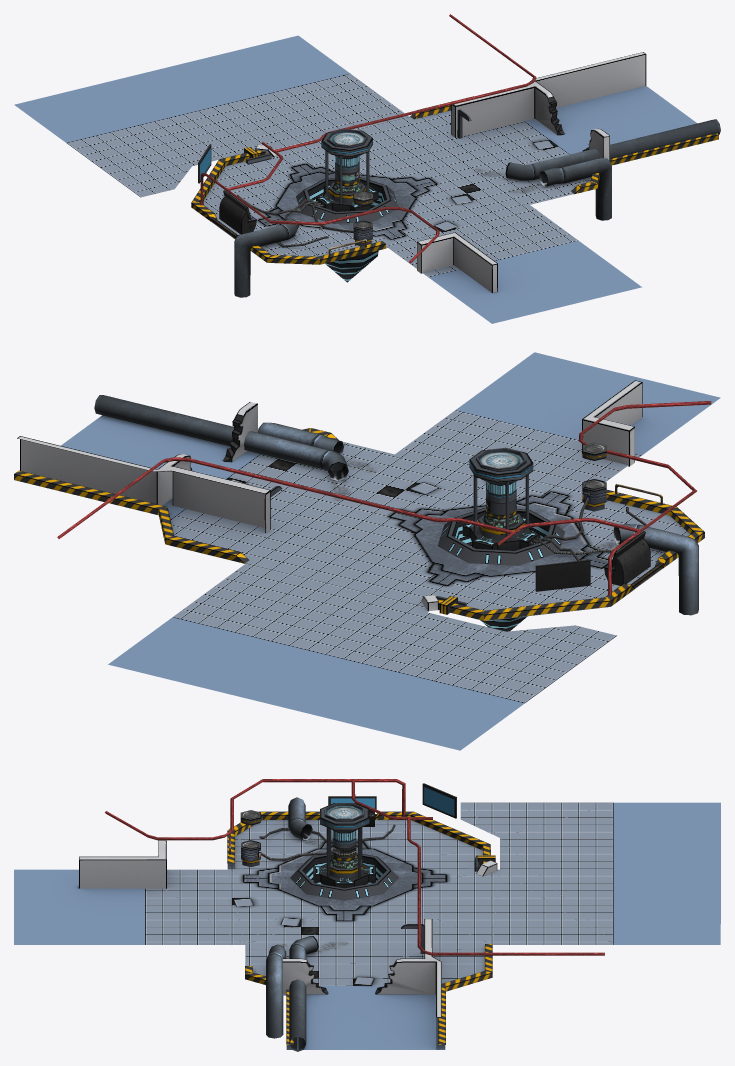
Rendered from ground_05.FBX.
3 renders of one model, top to bottom at view 1: azimuth 30°, elevation 25°; view 2: azimuth 150°, elevation 25°; view 3: azimuth 270°, elevation 25°, orthographic. The views are drawn at different scales.
Parts seen in each view (by area): view 1: ground_05, wall_02, computer_01, pipeline_02, base_01, wall_01, pipeline_03, pipeline_01, border_03, pipeline_06, pipeline_04, border_04 (+4 smaller); view 2: ground_05, wall_02, computer_01, pipeline_02, base_01, wall_01, border_02, pipeline_01, border_01, pipeline_06, pipeline_04, computer_03 (+5 smaller); view 3: ground_05, computer_01, wall_01, wall_02, base_01, pipeline_02, pipeline_03, pipeline_04, pipeline_06, wall_03, border_02, border_01 (+6 smaller).
Boxes of the visible parts, x1=… form: ground_05: x1=14, y1=35, x2=697, y2=323; wall_02: x1=451, y1=52, x2=646, y2=137; computer_01: x1=237, y1=128, x2=378, y2=247; pipeline_02: x1=505, y1=119, x2=720, y2=180; base_01: x1=296, y1=177, x2=398, y2=282; wall_01: x1=417, y1=232, x2=497, y2=292; pipeline_03: x1=539, y1=158, x2=611, y2=220; pipeline_01: x1=234, y1=218, x2=298, y2=297; border_03: x1=233, y1=234, x2=385, y2=264; pipeline_06: x1=275, y1=14, x2=536, y2=152; pipeline_04: x1=200, y1=172, x2=439, y2=263; border_04: x1=571, y1=133, x2=718, y2=194; ground_05: x1=61, y1=352, x2=720, y2=750; wall_02: x1=17, y1=436, x2=270, y2=533; computer_01: x1=462, y1=447, x2=646, y2=560; pipeline_02: x1=94, y1=395, x2=348, y2=480; base_01: x1=438, y1=507, x2=564, y2=631; wall_01: x1=582, y1=380, x2=642, y2=466; border_02: x1=14, y1=470, x2=248, y2=563; pipeline_01: x1=613, y1=524, x2=698, y2=615; border_01: x1=437, y1=583, x2=634, y2=620; pipeline_06: x1=57, y1=457, x2=513, y2=538; pipeline_04: x1=579, y1=401, x2=711, y2=595; computer_03: x1=535, y1=559, x2=590, y2=591; ground_05: x1=14, y1=802, x2=720, y2=1049; computer_01: x1=259, y1=803, x2=395, y2=888; wall_01: x1=79, y1=840, x2=166, y2=888; wall_02: x1=375, y1=919, x2=441, y2=1017; base_01: x1=290, y1=853, x2=398, y2=900; pipeline_02: x1=289, y1=936, x2=318, y2=1051; pipeline_03: x1=266, y1=944, x2=286, y2=1038; pipeline_04: x1=105, y1=779, x2=405, y2=840; pipeline_06: x1=407, y1=817, x2=604, y2=955; wall_03: x1=282, y1=958, x2=328, y2=995; border_02: x1=438, y1=944, x2=492, y2=1044; border_01: x1=375, y1=811, x2=490, y2=863.
Bounding box in the file's own units: 6842 × 1911 × 8207.
